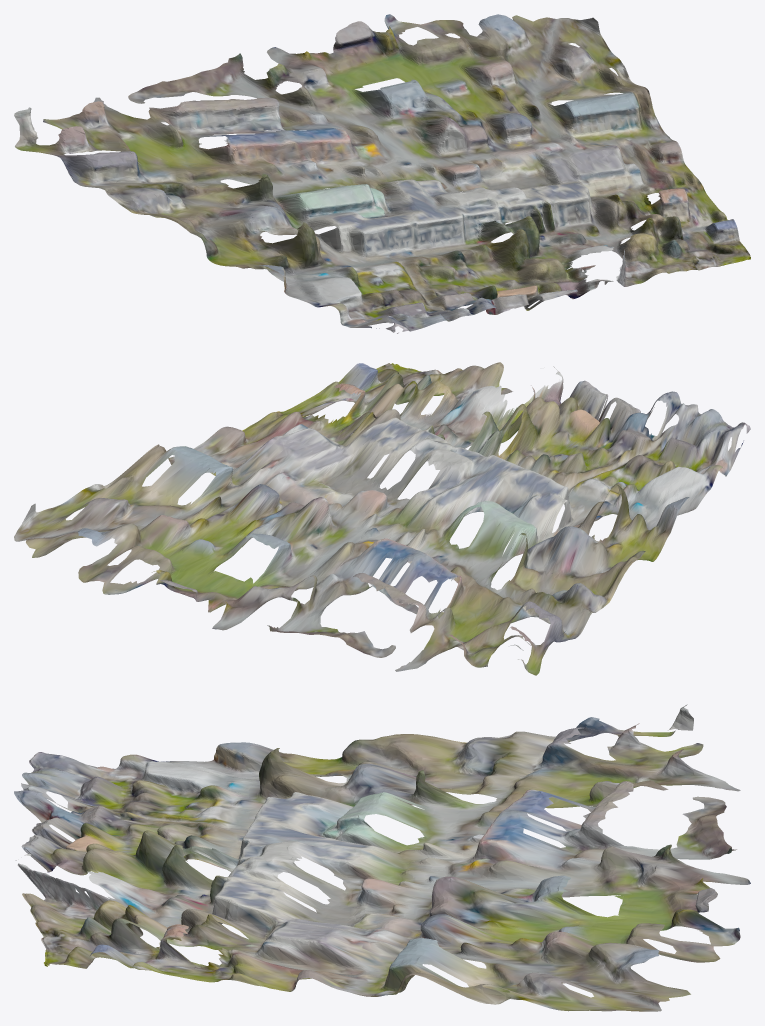
The model's file is render_lod1.glb.
The picture shows the model from 3 angles, top to bottom: view 1: azimuth 30°, elevation 25°; view 2: azimuth 150°, elevation 25°; view 3: azimuth 270°, elevation 25°; orthographic projection. The views are drawn at different scales.
Visible parts, largest first — view 1: geometry_0; view 2: geometry_0; view 3: geometry_0.
Part boxes in pixels (<box>): geometry_0: <box>14,14,750,333</box>; geometry_0: <box>14,362,750,675</box>; geometry_0: <box>14,704,750,1011</box>.
Bounding box in the file's own units: 13.52 × 1.02 × 14.72.
